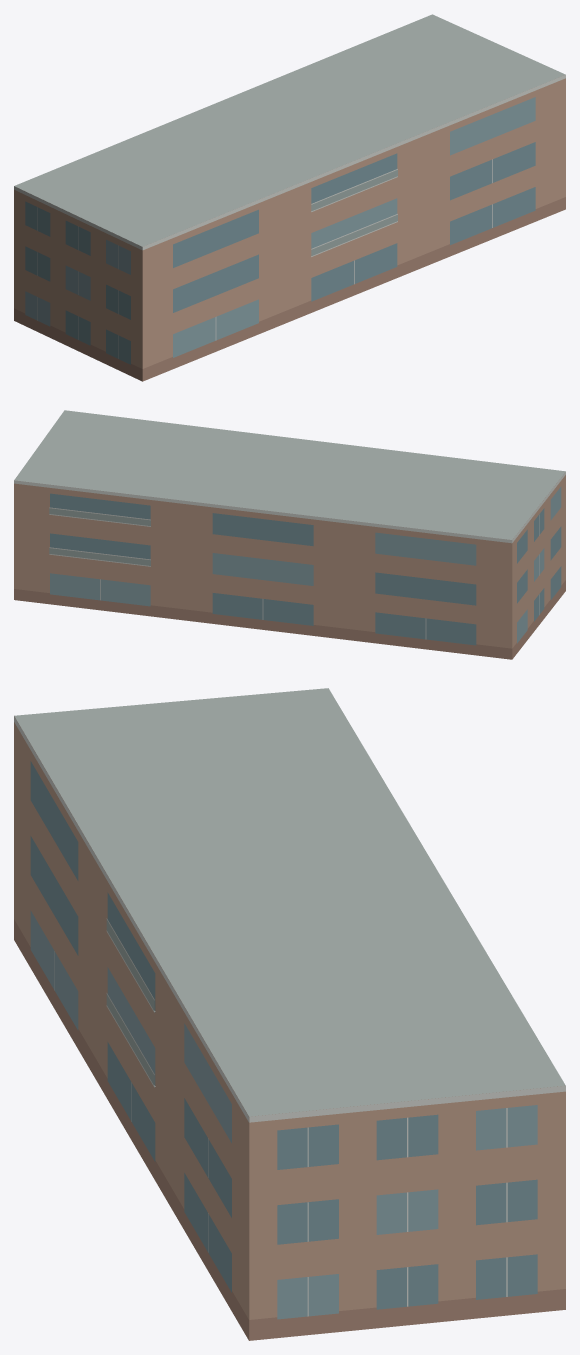
Rendered from survey-upis-33035757.glb.
3 renders of one model, top to bottom at view 1: azimuth 30°, elevation 25°; view 2: azimuth 150°, elevation 25°; view 3: azimuth 270°, elevation 25°, orthographic. The views are drawn at different scales.
Parts seen in each view (by area): view 1: survey-upis-33035757.tmp; view 2: survey-upis-33035757.tmp; view 3: survey-upis-33035757.tmp.
Boxes of the visible parts, box(x1,y1,x2,y2) form: survey-upis-33035757.tmp: box(14, 14, 565, 381); survey-upis-33035757.tmp: box(14, 410, 565, 659); survey-upis-33035757.tmp: box(14, 688, 565, 1340).
Bounding box in the file's own units: 37.54 × 9.15 × 20.42.
